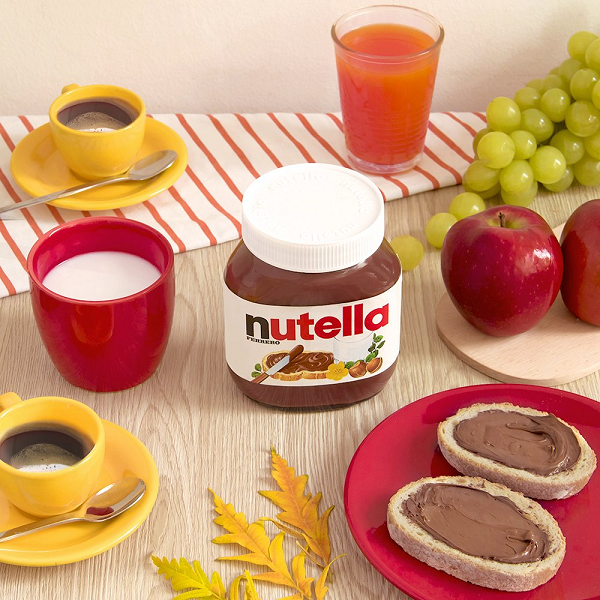nutella: (221, 161, 405, 413)
